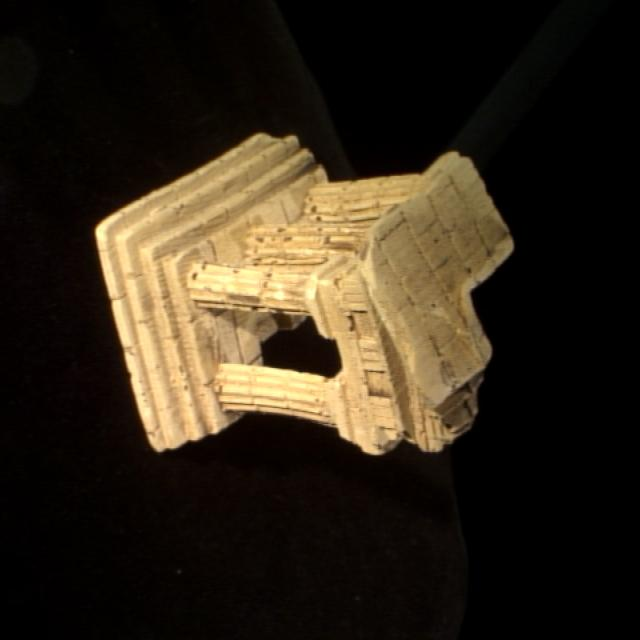Instance-Segmentation: (96, 133, 512, 452)
